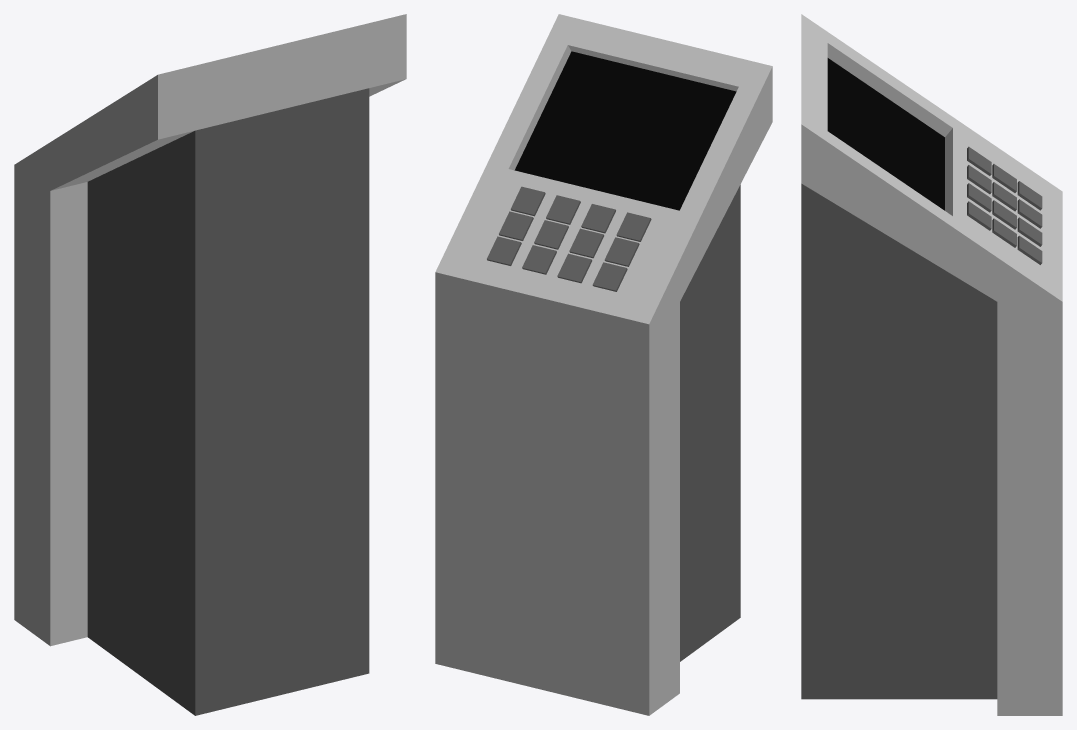
Rendered from terminal.fbx.
3 renders of one model, left to right at view 1: azimuth 30°, elevation 25°; view 2: azimuth 150°, elevation 25°; view 3: azimuth 270°, elevation 25°, orthographic. The views are drawn at different scales.
Visible parts, largest first — view 1: Cube.002; view 2: Cube.002; view 3: Cube.002.
Boxes of the visible parts, x1,y1,x2,y2 form: Cube.002: (14, 14, 406, 715); Cube.002: (435, 14, 772, 715); Cube.002: (801, 14, 1062, 715).
Bounding box in the file's own units: 50 × 125 × 50.
1 material, 1 textured.
